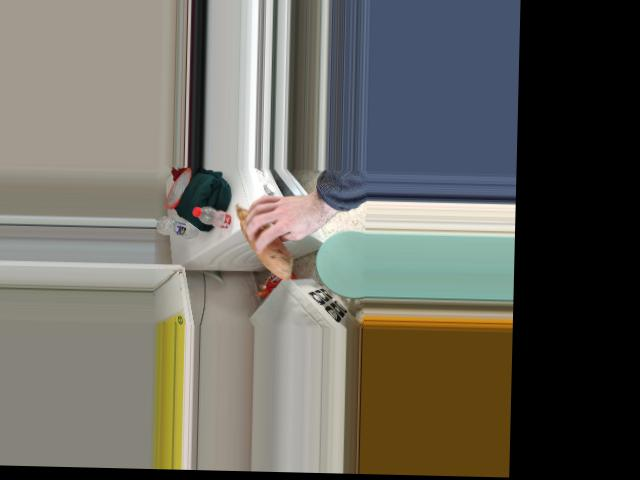sweet_potato: (236, 198, 292, 274)
